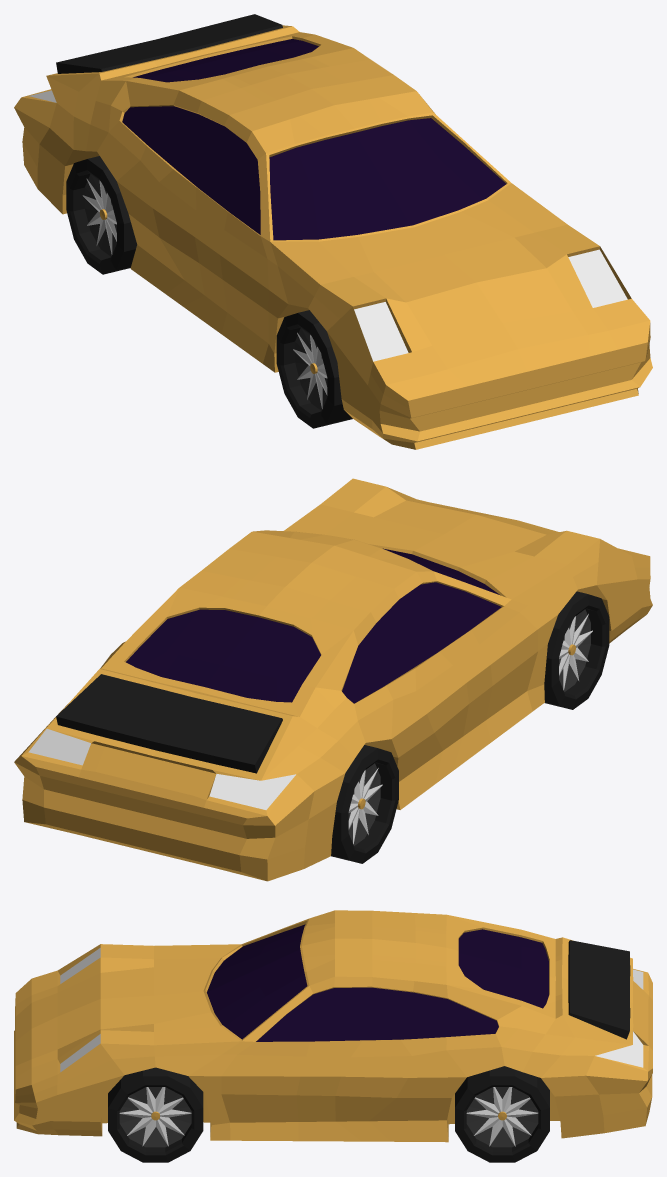
The model's file is carrera-s.fbx.
3 renders of one model, top to bottom at view 1: azimuth 30°, elevation 25°; view 2: azimuth 150°, elevation 25°; view 3: azimuth 270°, elevation 25°, orthographic. The views are drawn at different scales.
Parts seen in each view (by area): view 1: body, wheel.backRight, wheel.frontRight; view 2: body, wheel.backRight, wheel.frontRight; view 3: body, wheel.backLeft, wheel.frontLeft.
Part boxes in pixels (x1,y1,x2,y2): body: [14, 14, 652, 449]; wheel.backRight: [66, 156, 137, 274]; wheel.frontRight: [276, 310, 352, 428]; body: [14, 478, 652, 881]; wheel.backRight: [331, 745, 398, 863]; wheel.frontRight: [544, 591, 609, 709]; body: [14, 910, 652, 1142]; wheel.backLeft: [455, 1066, 549, 1162]; wheel.frontLeft: [108, 1067, 203, 1162].
Bounding box in the file's own units: 159 × 112 × 383.
